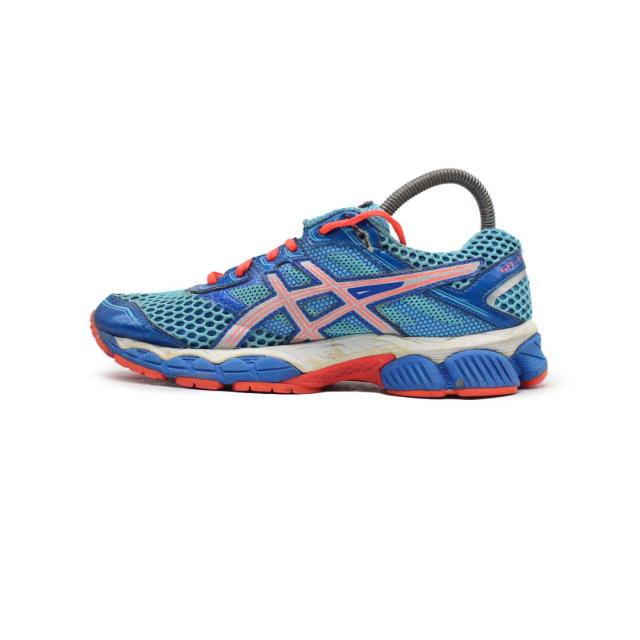heel: (464, 232, 534, 331)
midsole: (91, 313, 546, 396)
uppersole: (96, 202, 465, 352)
